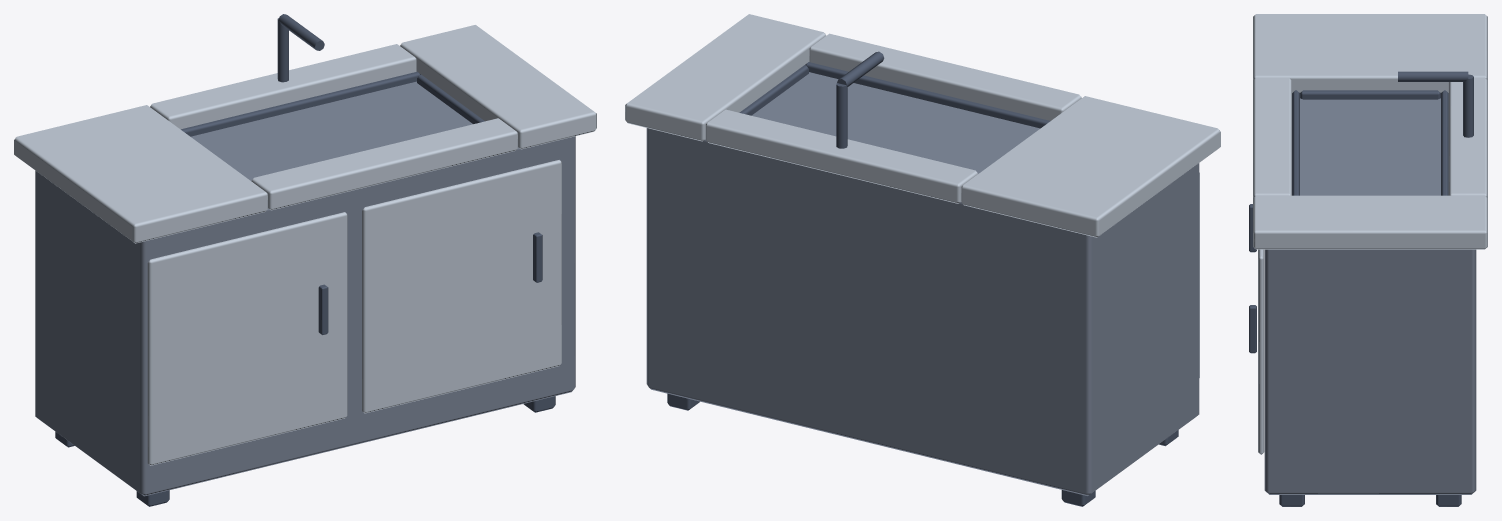
File: 户外水槽台.glb
3 views of the same model, side by side, from view 1: azimuth 30°, elevation 25°; view 2: azimuth 150°, elevation 25°; view 3: azimuth 270°, elevation 25° (orthographic). The views are drawn at different scales.
Parts seen in each view (by area): view 1: garden-outdoor-sink; view 2: garden-outdoor-sink; view 3: garden-outdoor-sink.
Boxes of the visible parts, box(x1,y1,x2,y2) form: garden-outdoor-sink: box(14, 14, 596, 506); garden-outdoor-sink: box(625, 14, 1220, 506); garden-outdoor-sink: box(1249, 14, 1487, 506).
Bounding box in the file's own units: 1.3 × 0.98 × 0.6.
